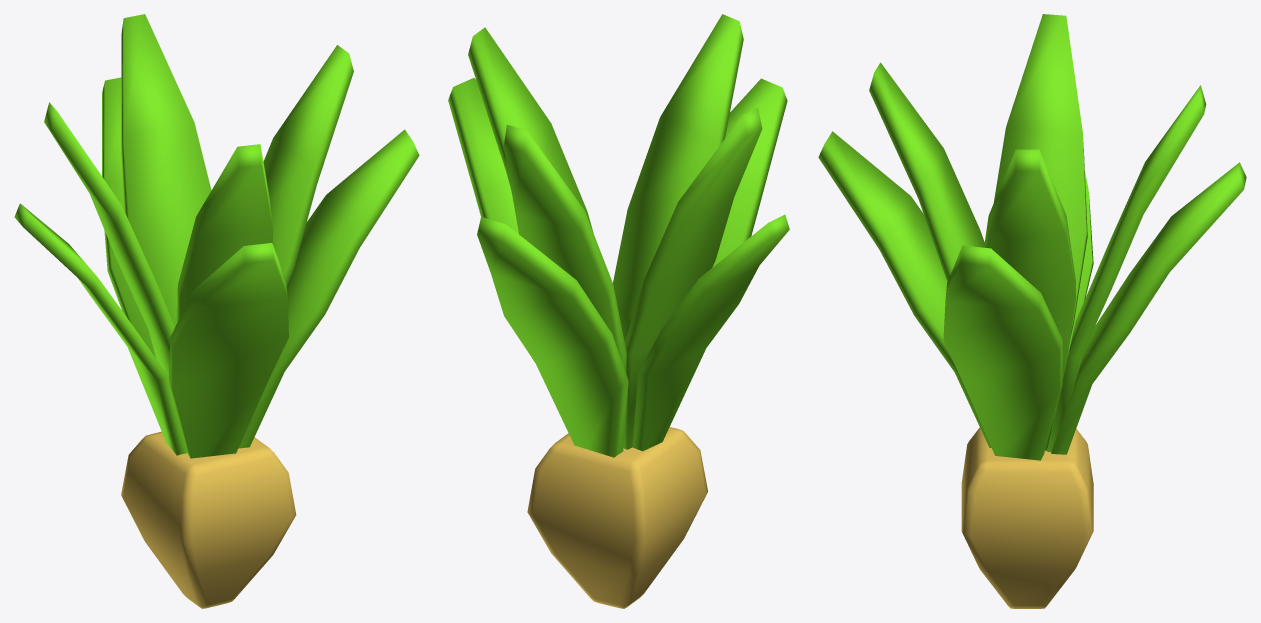
Rendered from beat.fbx.
The picture shows the model from 3 angles, left to right: view 1: azimuth 30°, elevation 25°; view 2: azimuth 150°, elevation 25°; view 3: azimuth 270°, elevation 25°; orthographic projection. The views are drawn at different scales.
Parts seen in each view (by area): view 1: beat; view 2: beat; view 3: beat.
Part boxes in pixels (<box>): beat: <box>14,14,419,608</box>; beat: <box>448,14,789,608</box>; beat: <box>818,14,1246,608</box>.
Bounding box in the file's own units: 228 × 314 × 235.
